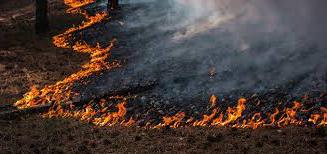fire: (9, 69, 140, 132), (160, 94, 327, 131), (54, 3, 120, 60)
